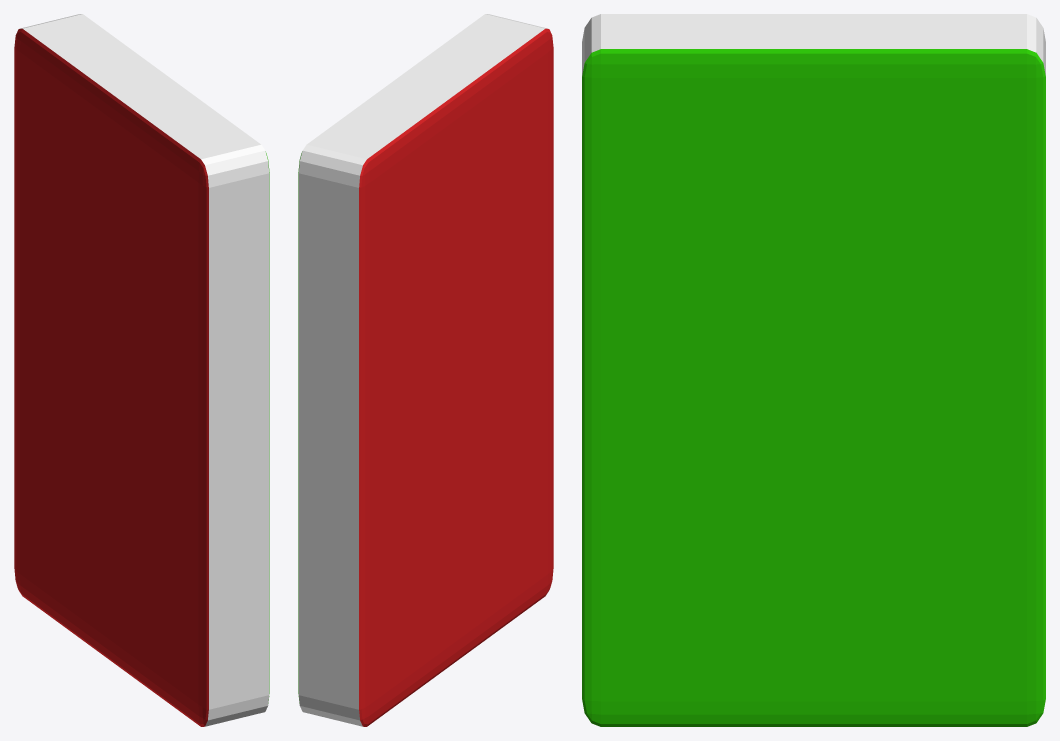
Rendered from deck.glb.
3 views of the same model, side by side, from view 1: azimuth 30°, elevation 25°; view 2: azimuth 150°, elevation 25°; view 3: azimuth 270°, elevation 25° (orthographic). The views are drawn at different scales.
Parts seen in each view (by area): view 1: Cube; view 2: Cube; view 3: Cube.
Boxes of the visible parts, bbox=[...] form: Cube: bbox=[14, 14, 269, 726]; Cube: bbox=[298, 14, 553, 726]; Cube: bbox=[582, 14, 1045, 726].
Size of the model in its own units: 0.242 by 2 by 1.24.
